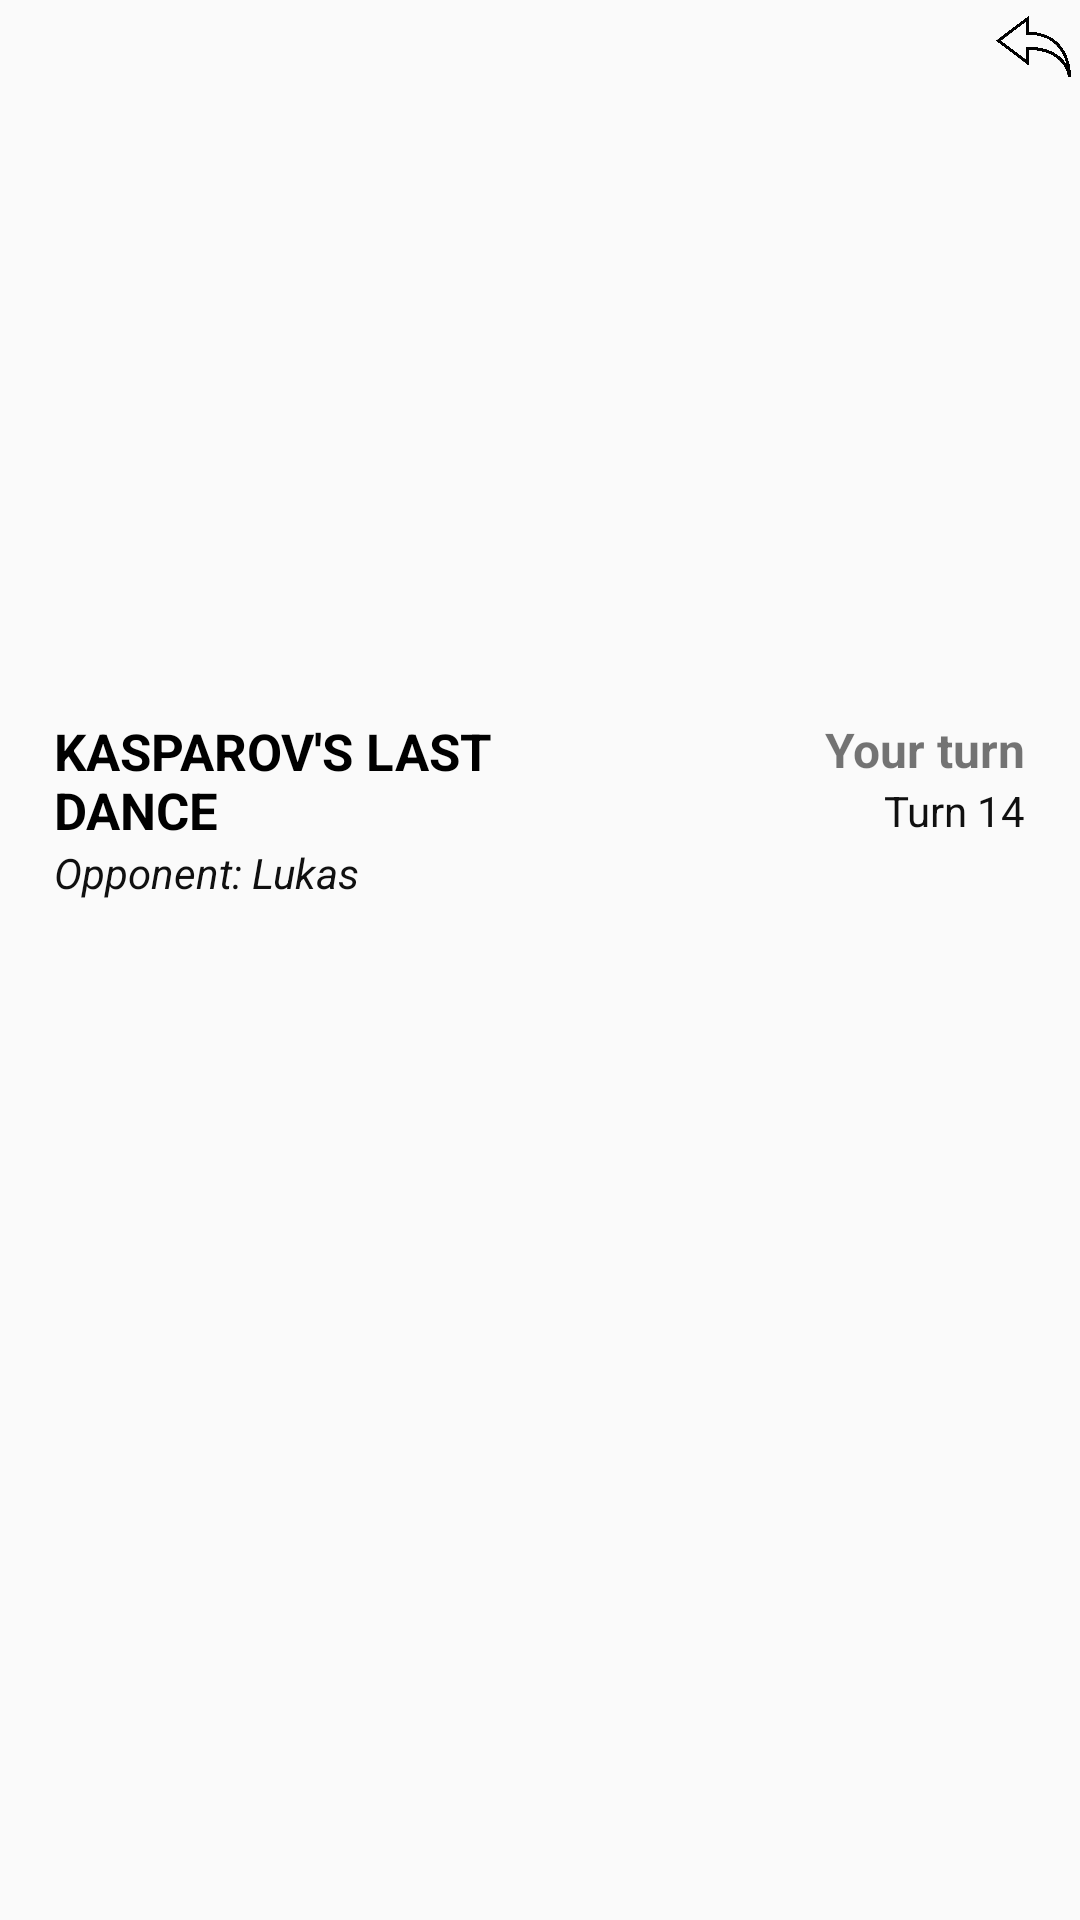

Where to tap for icons on this 1080x1920 app screen, as (x,y):
restore: (1033,46)
